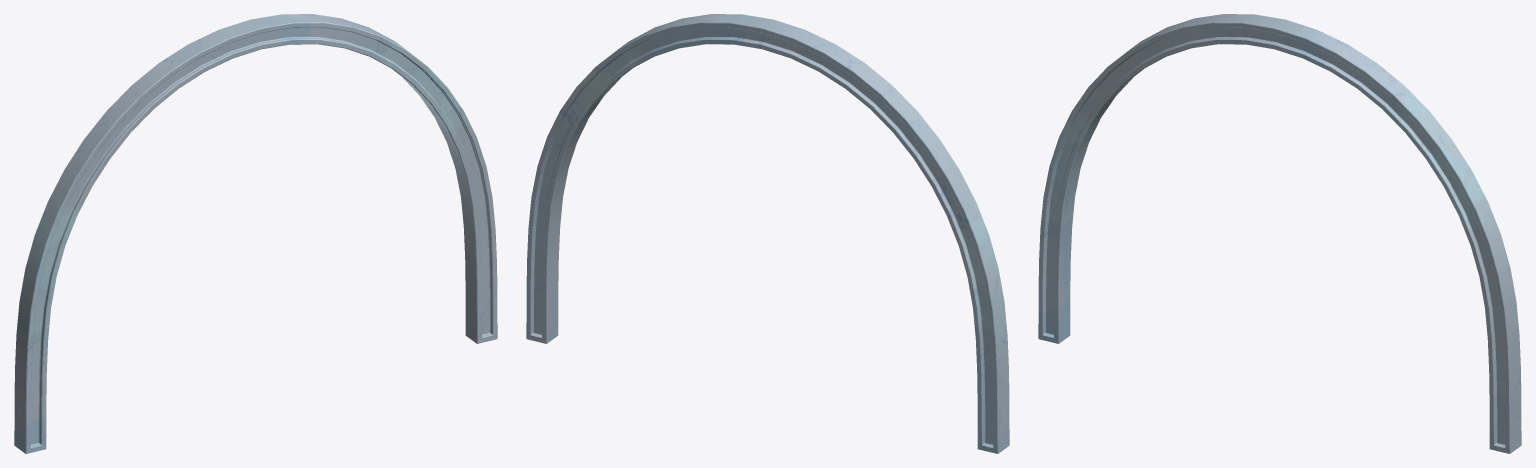
File: Arch entrance.fbx
3 renders of one model, left to right at view 1: azimuth 30°, elevation 25°; view 2: azimuth 150°, elevation 25°; view 3: azimuth 330°, elevation 25°, orthographic.
Visible parts, largest first — view 1: Arch entrance; view 2: Arch entrance; view 3: Arch entrance.
Boxes of the visible parts, left/top/right/bottom form: Arch entrance: left=14, top=14, right=497, bottom=453; Arch entrance: left=526, top=14, right=1009, bottom=453; Arch entrance: left=1038, top=14, right=1521, bottom=453.
Size of the model in its own units: 376 by 280 by 16.42.
